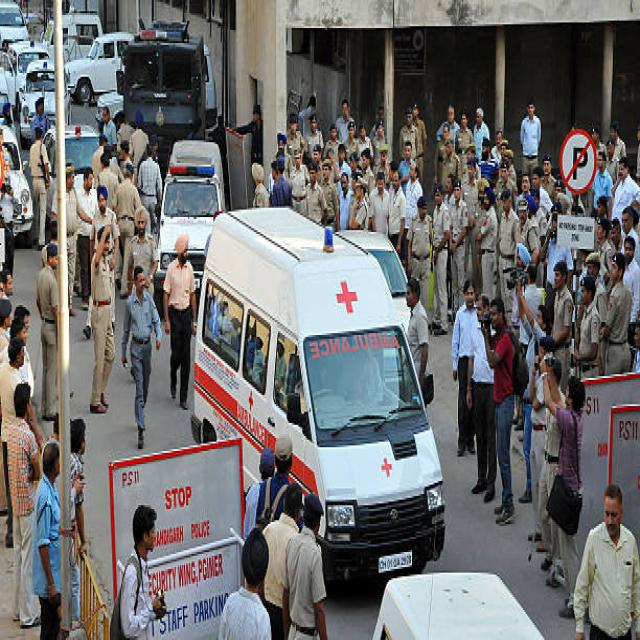ambulance: (192, 204, 447, 580)
